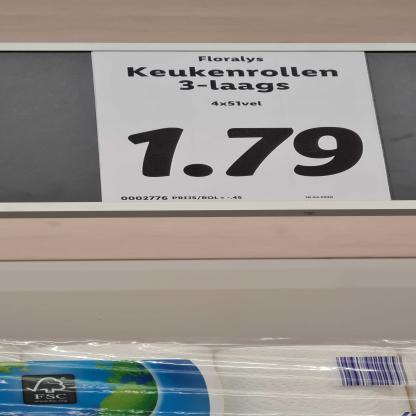prtg: (94, 52, 393, 203)
